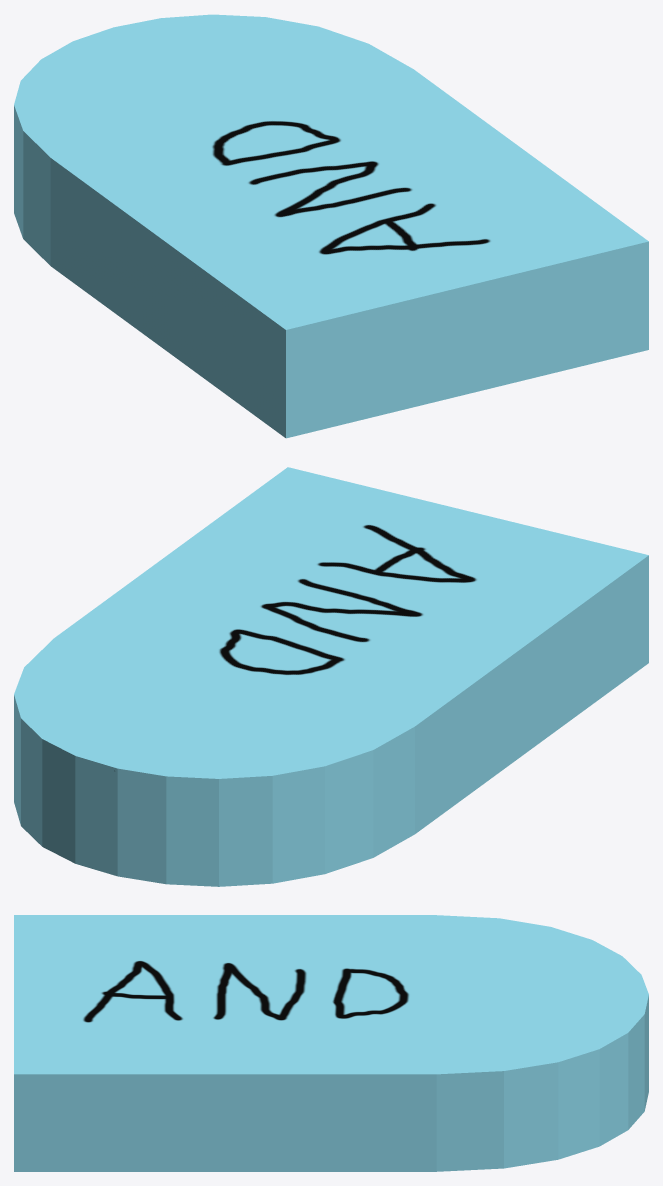
The model's file is And Gate.fbx.
3 views of the same model, one above another, from view 1: azimuth 30°, elevation 25°; view 2: azimuth 150°, elevation 25°; view 3: azimuth 270°, elevation 25° (orthographic). The views are drawn at different scales.
Parts seen in each view (by area): view 1: Plane; view 2: Plane; view 3: Plane.
Part boxes in pixels (x1=…): Plane: x1=14, y1=14, x2=648, y2=438; Plane: x1=14, y1=467, x2=648, y2=886; Plane: x1=14, y1=915, x2=648, y2=1171.
Size of the model in its own units: 200 by 57.09 by 337.
Materials: 1 (1 with a texture image).
